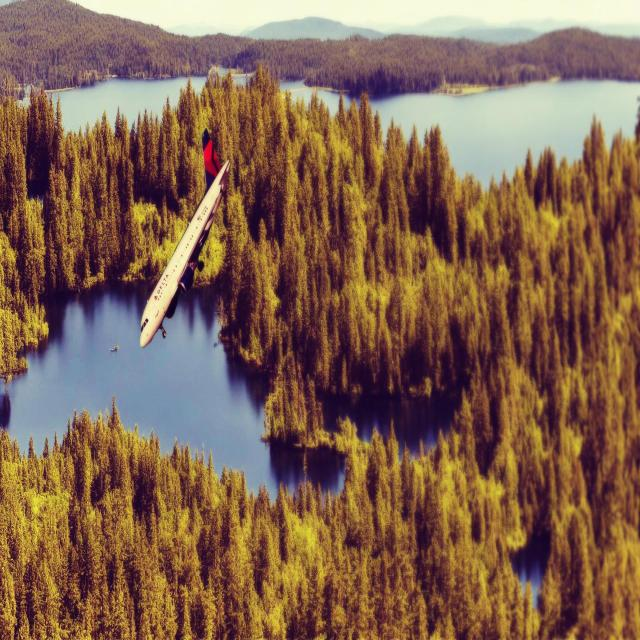airplane: (139, 127, 231, 348)
